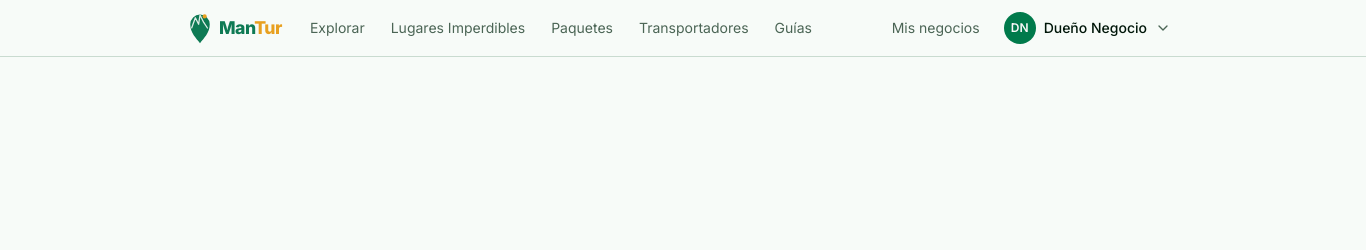
Test case: PublicNav — business_owner › shows the "Mis negocios" link inline and Cerrar sesión inside the avatar menu
The width and height of the screenshot is (1366, 250).
Click the button "DN Dueño Negocio": click(1087, 28) [996,6,1179,50]
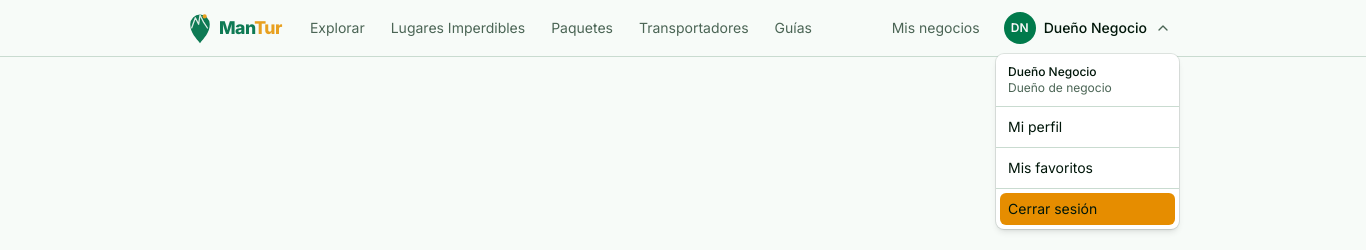
expect the button "Cerrar sesión" is shown: met, box [1008,199,1167,219]
expect the text "Dueño de negocio" is shown: met, box [1008,80,1112,95]
